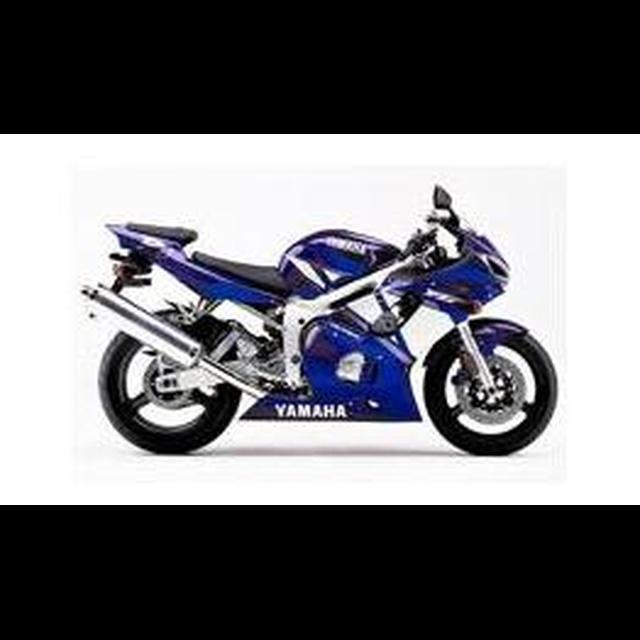motorcycle: (77, 177, 560, 462)
